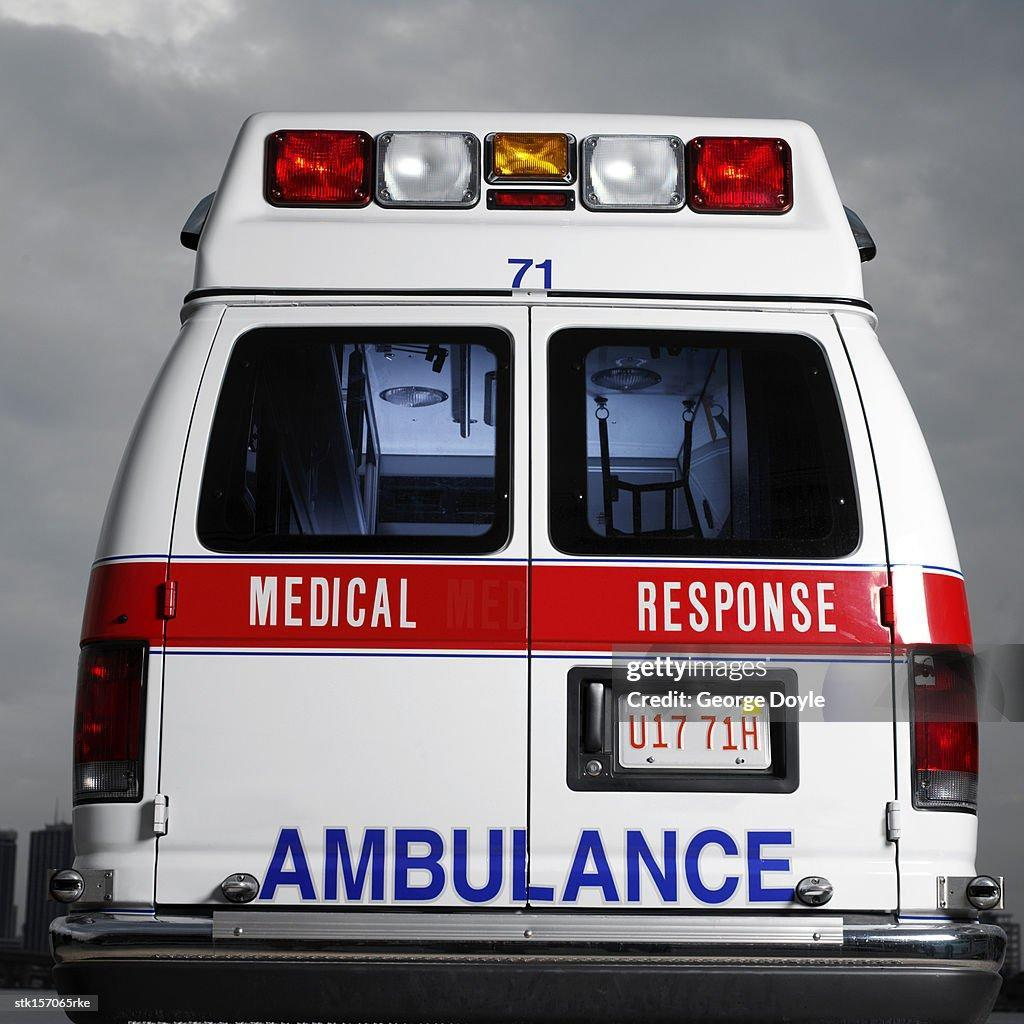Ambulance: (260, 823, 824, 926)
